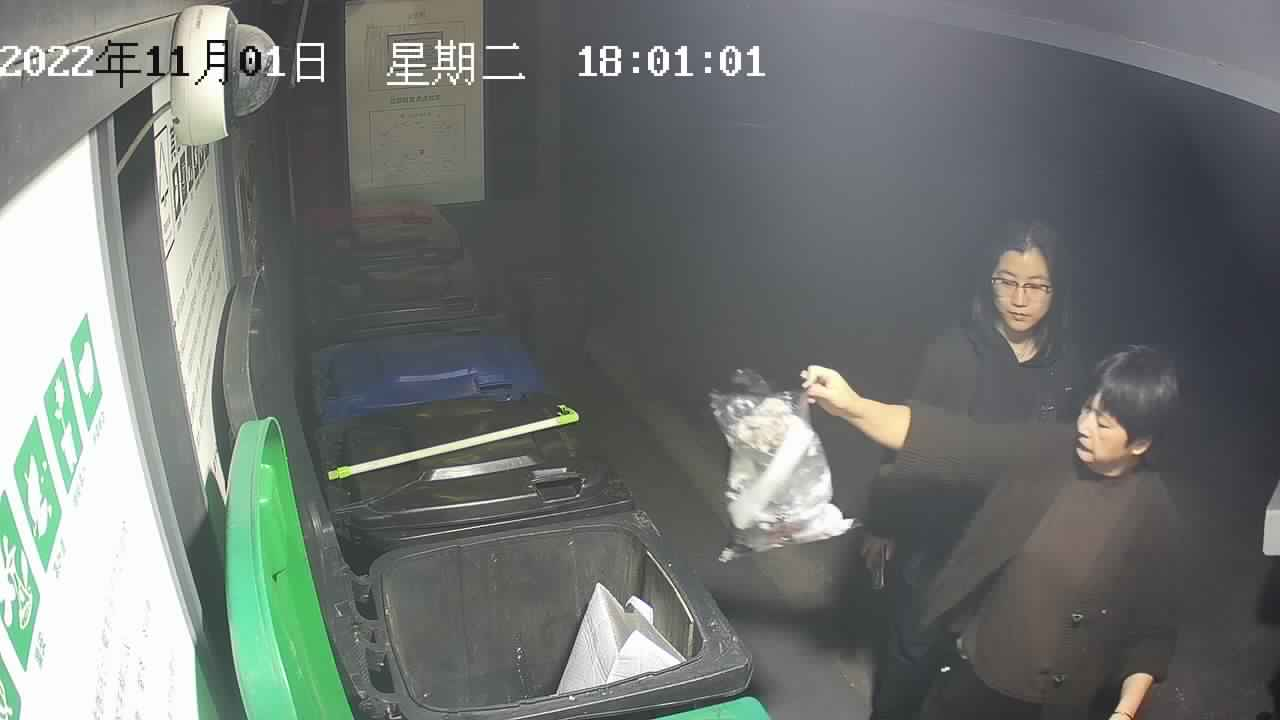garbage-bag: (706, 365, 865, 565)
person: (800, 216, 1185, 720)
